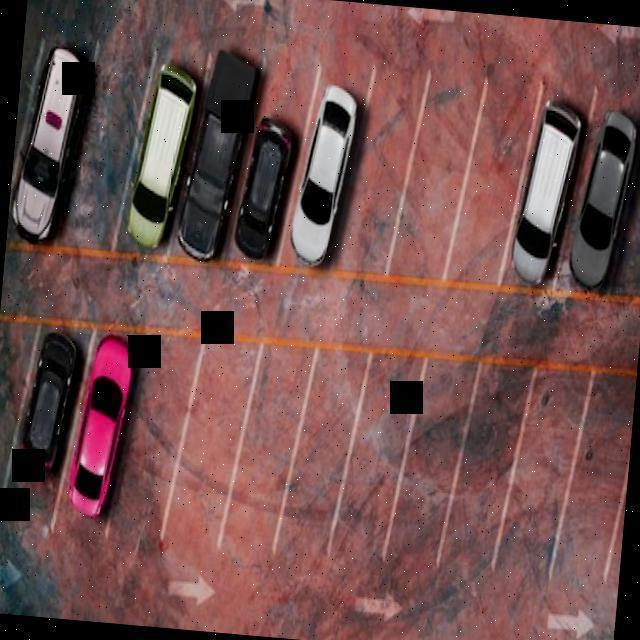space-empty: (44, 26, 162, 261), (152, 321, 268, 554), (374, 335, 487, 569), (319, 54, 431, 287), (99, 320, 210, 552), (322, 334, 432, 568), (485, 360, 596, 590), (379, 60, 489, 292), (437, 64, 546, 294), (431, 347, 540, 577), (269, 327, 375, 558), (214, 325, 319, 557), (543, 368, 636, 589)
space-occupied: (491, 67, 604, 300), (43, 306, 150, 547), (160, 36, 265, 278), (273, 47, 379, 283), (107, 35, 213, 262), (545, 69, 640, 309), (221, 44, 319, 270), (0, 312, 96, 542), (5, 31, 92, 255)
